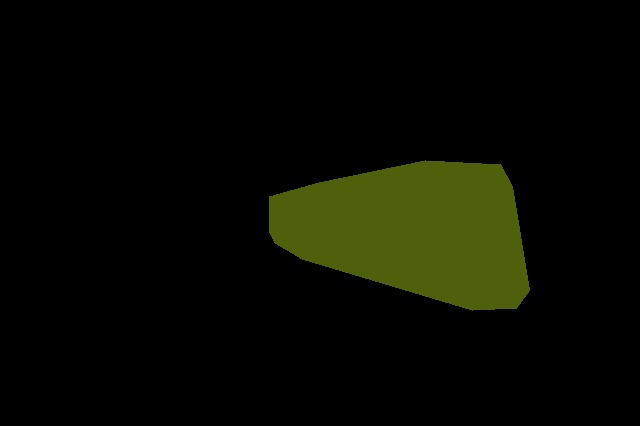Train: (269, 160, 530, 311)
